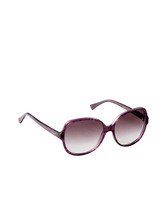glasses: (15, 97, 151, 152)
